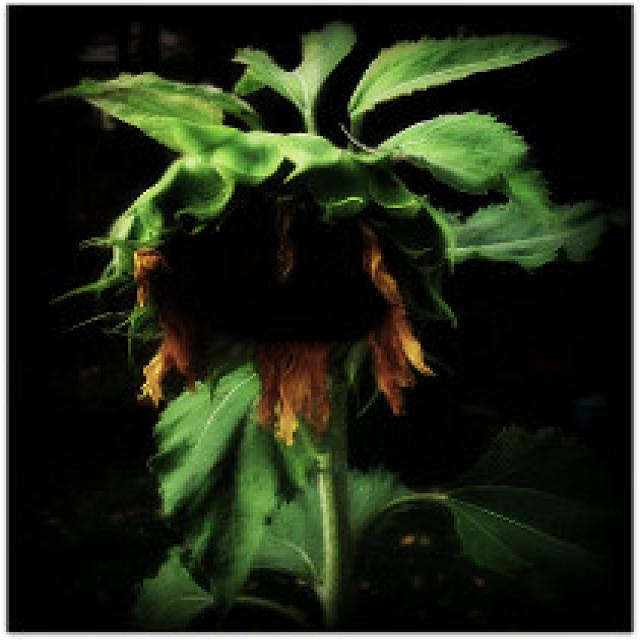sunflower: (72, 120, 461, 448)
